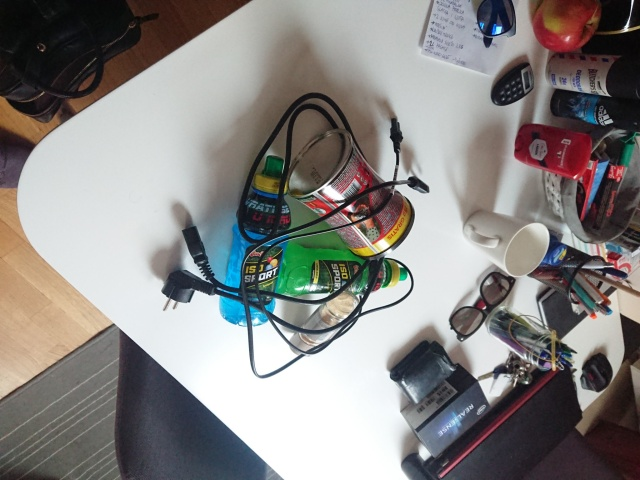Kotanyi Garlic Granules 70g: (287, 288, 362, 358)
Nescafe Classic 225g: (285, 127, 417, 262)
Vindi Iso Sport Forest Strawberries 500mL: (217, 153, 293, 329)
Vindi Iso Sport Lemon-Grapefruit 500mL: (273, 237, 409, 300)
